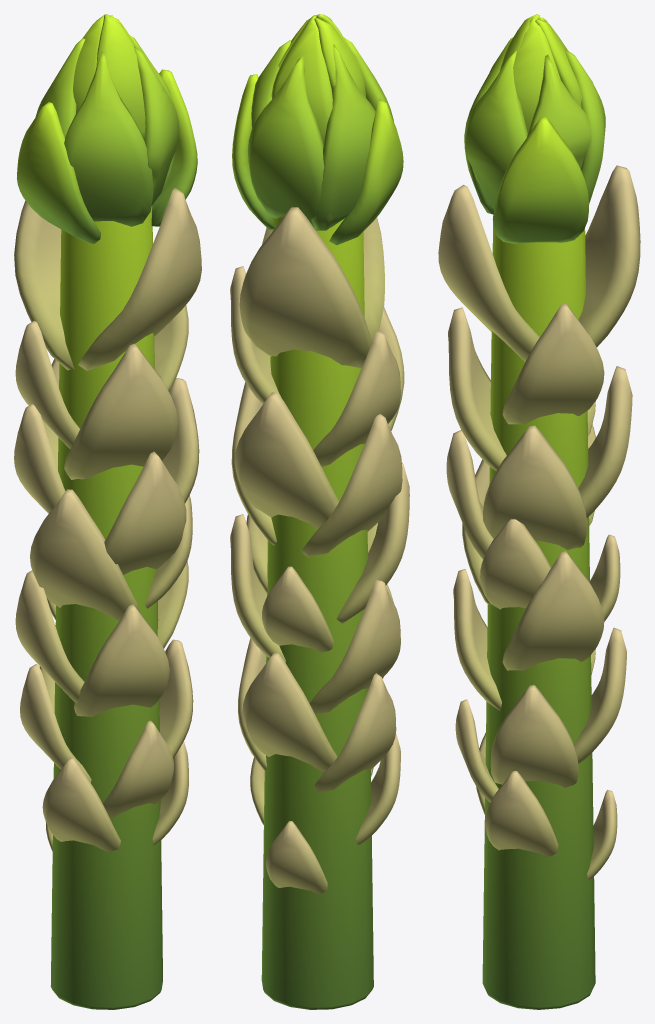
Rendered from Asparagus.fbx.
3 views of the same model, side by side, from view 1: azimuth 30°, elevation 25°; view 2: azimuth 150°, elevation 25°; view 3: azimuth 270°, elevation 25° (orthographic).
Visible parts, largest first — view 1: Asparagus; view 2: Asparagus; view 3: Asparagus.
Boxes of the visible parts, x1=… form: Asparagus: x1=14, y1=14, x2=201, y2=1009; Asparagus: x1=230, y1=14, x2=409, y2=1009; Asparagus: x1=438, y1=14, x2=640, y2=1009.
Bounding box in the file's own units: 4.59 × 27.18 × 5.12.
